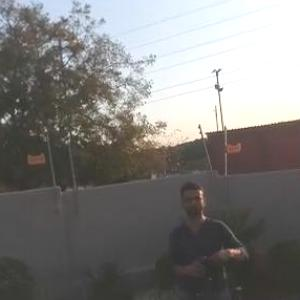follow: (159, 170, 257, 299)
